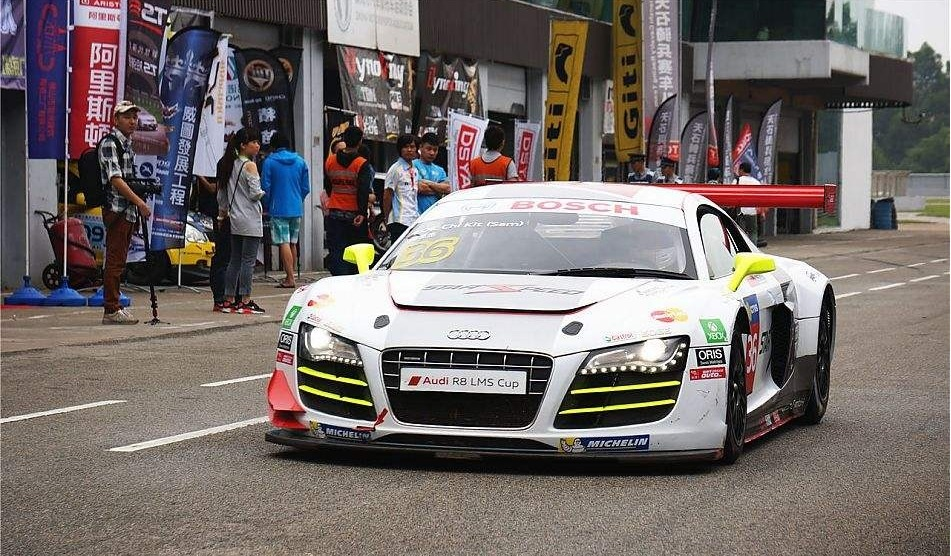racing car: (275, 171, 836, 470)
